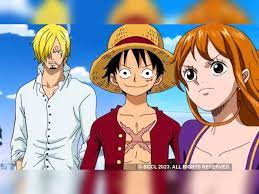luffy: (88, 24, 181, 99)
